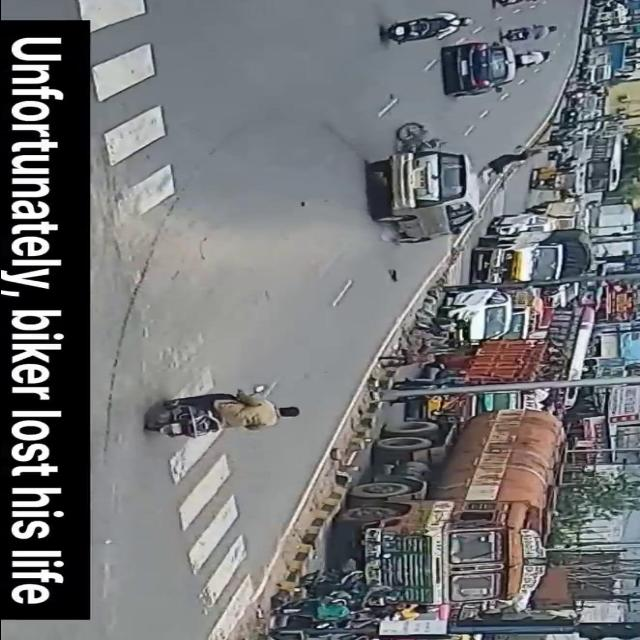accident: (353, 113, 537, 254)
non_accident: (269, 404, 571, 640), (392, 286, 598, 403), (536, 0, 640, 197), (467, 196, 605, 283)
